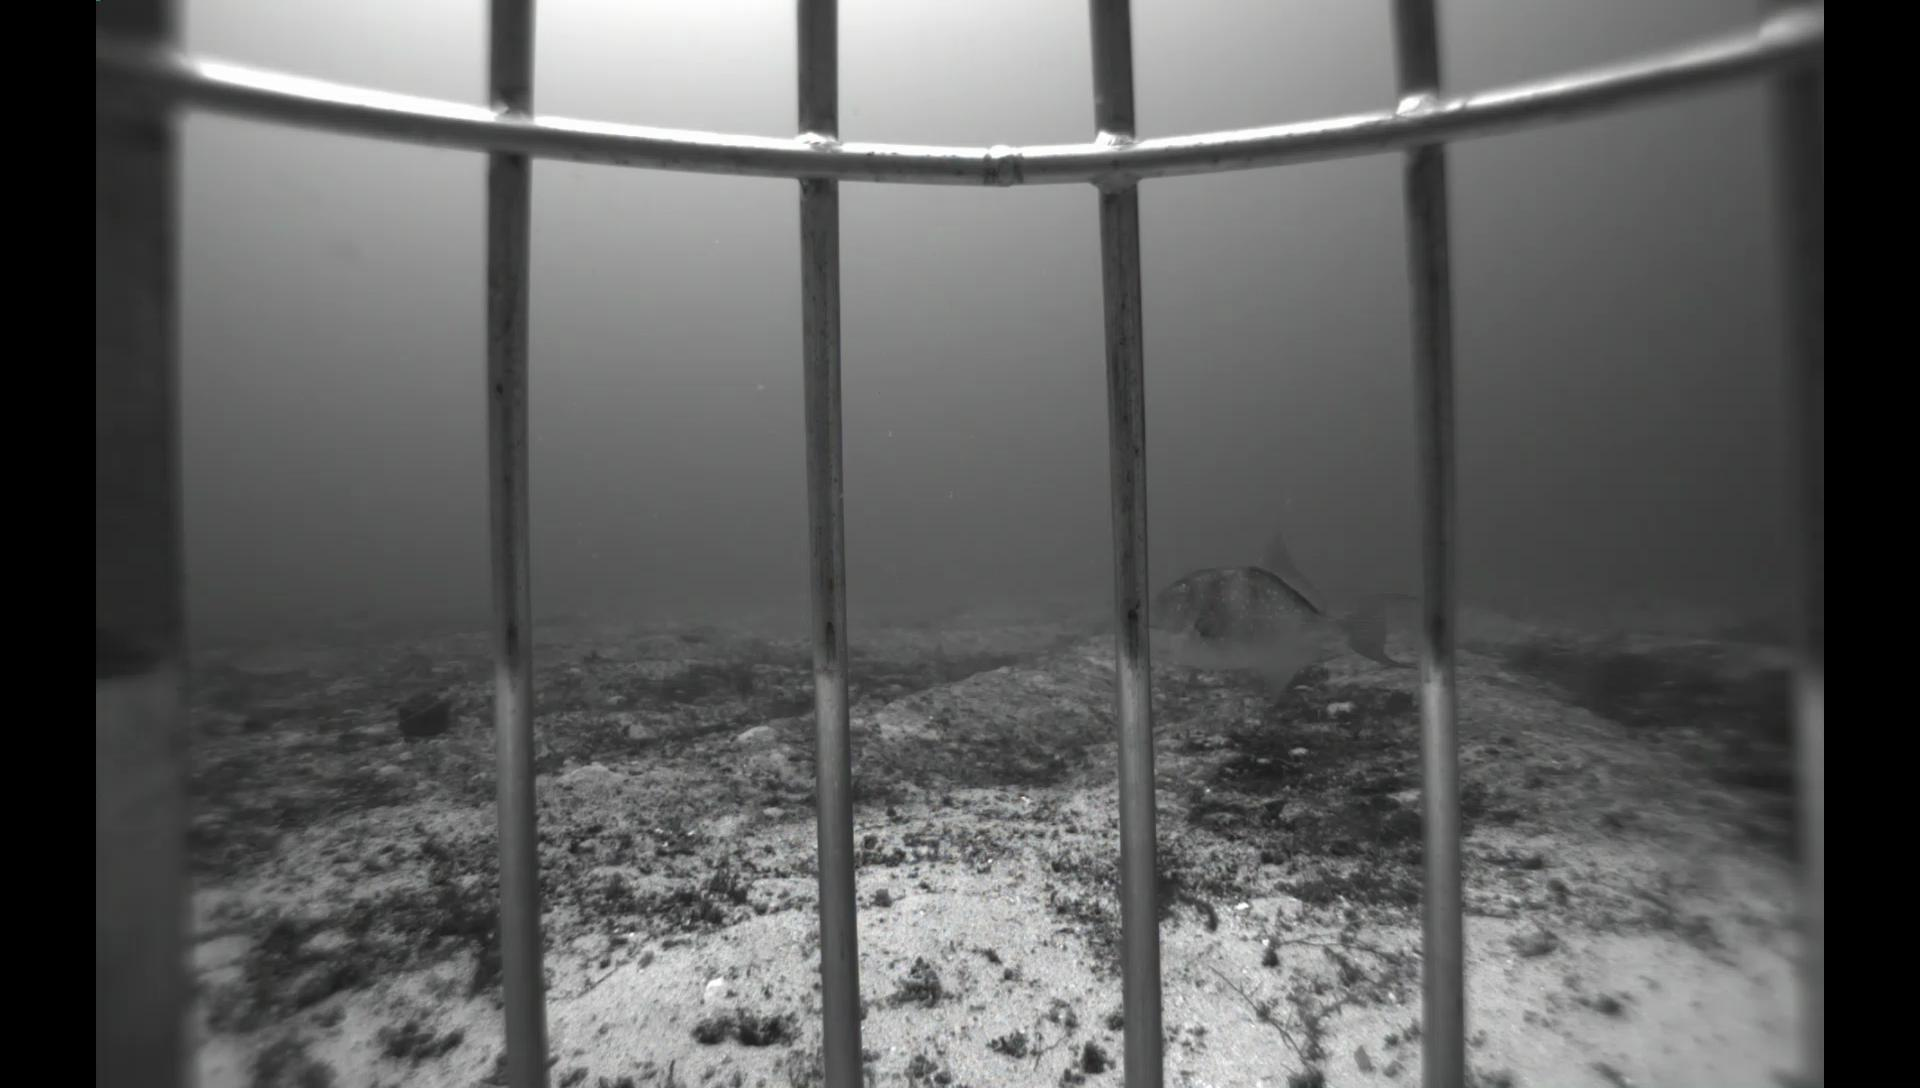BALISTESCAPRISCUS-189030502: (1150, 524, 1425, 717)
CALAMUSPRORIDENS-170210605: (219, 630, 338, 680)
